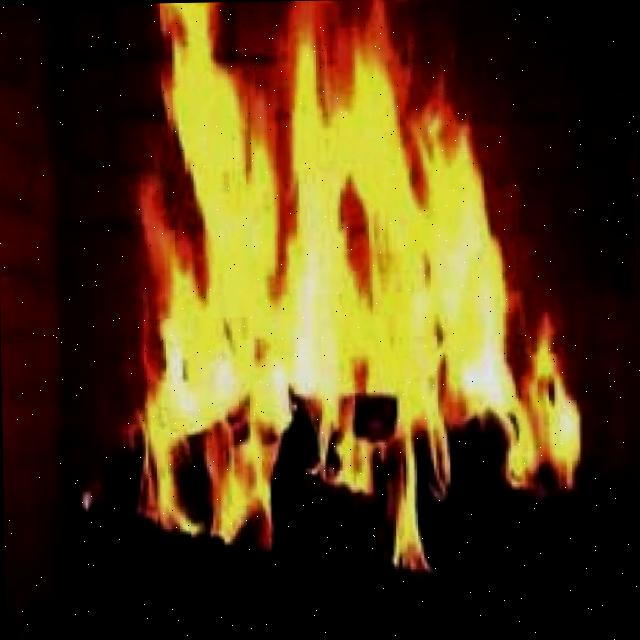fire: (147, 0, 556, 465)
